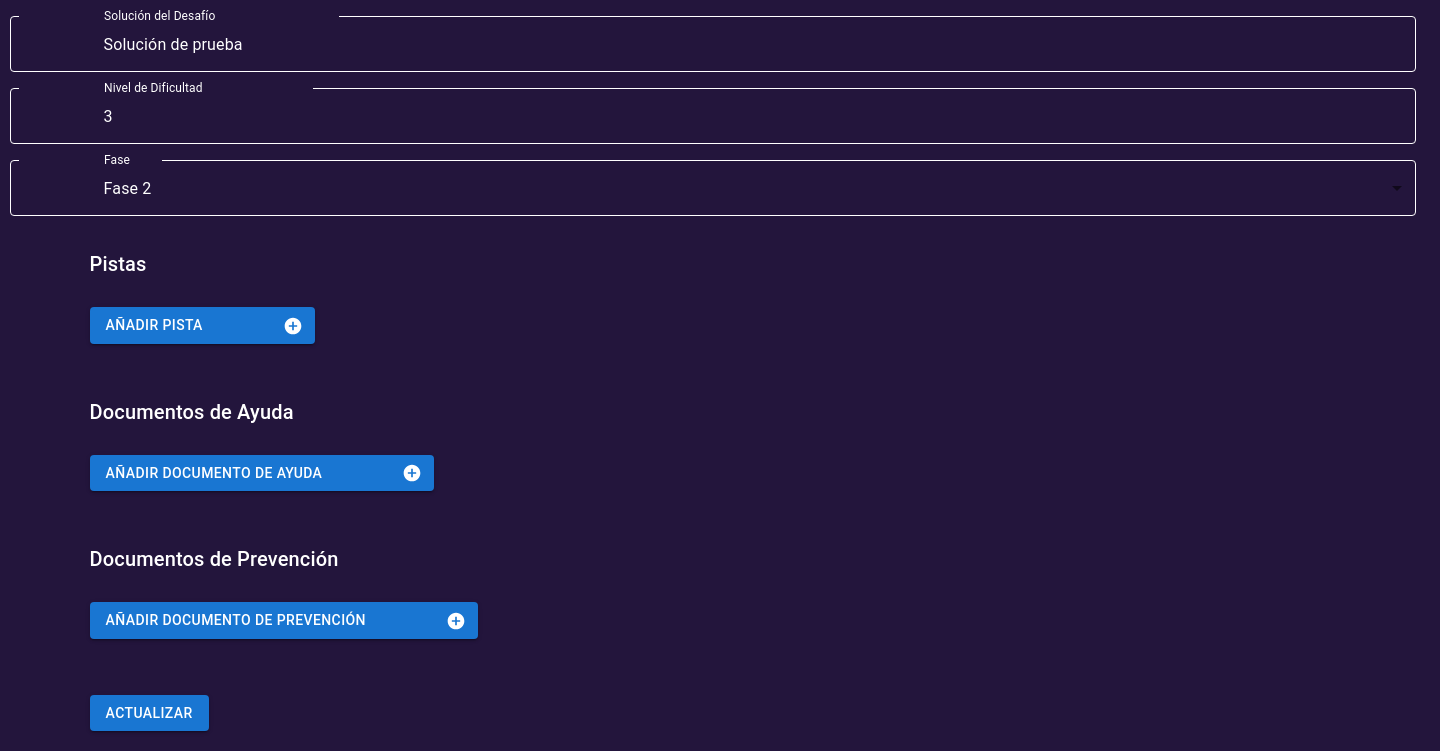
EditChallenge Page › adds and removes documentos de prevención
(page scrolled)
Click the button "Añadir Documento de Prevención" at (284, 621), box [90,602,478,639]
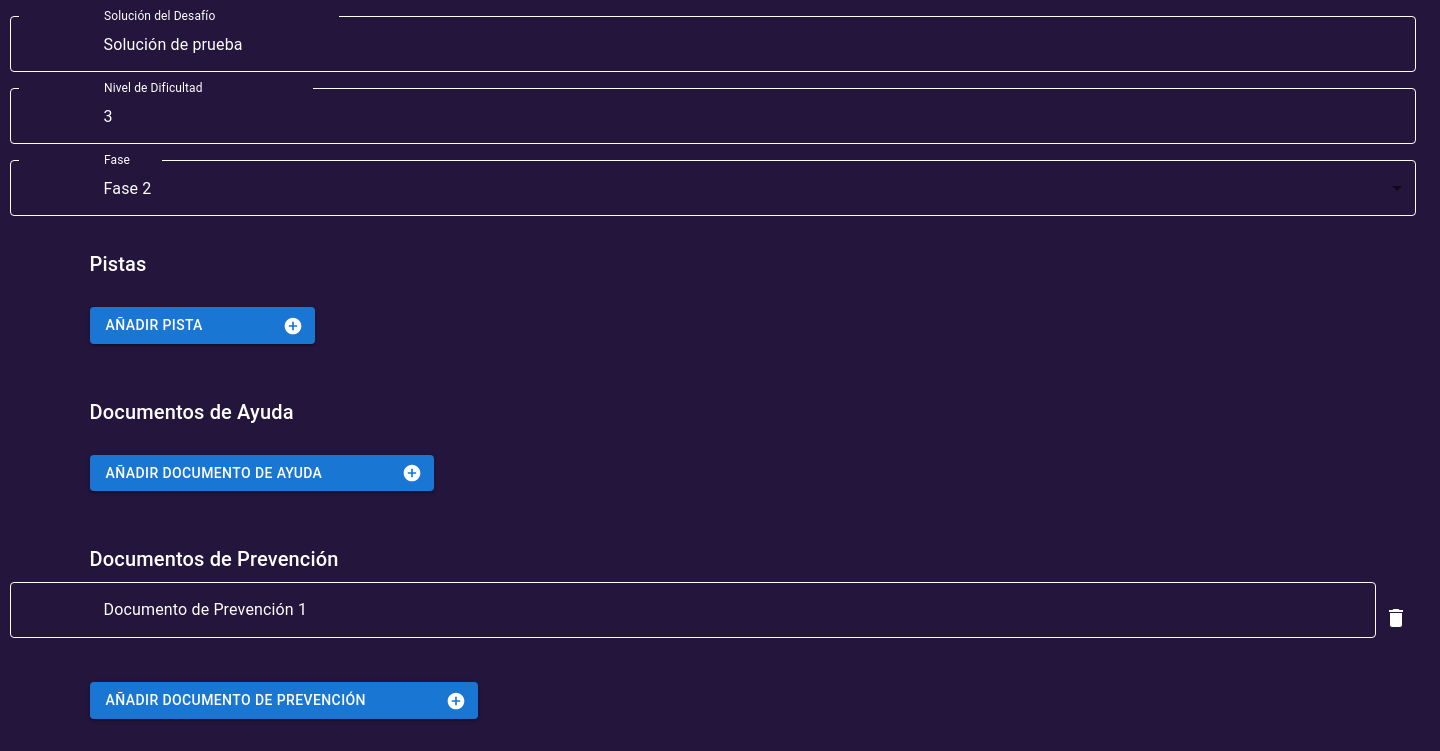
Expected: the number of fields labelled "Documento de Prevención 1" is 1
Type "Nuevo documento de prevención" into the field labelled "Documento de Prevención 1" at (733, 610), box [90,582,1376,638]
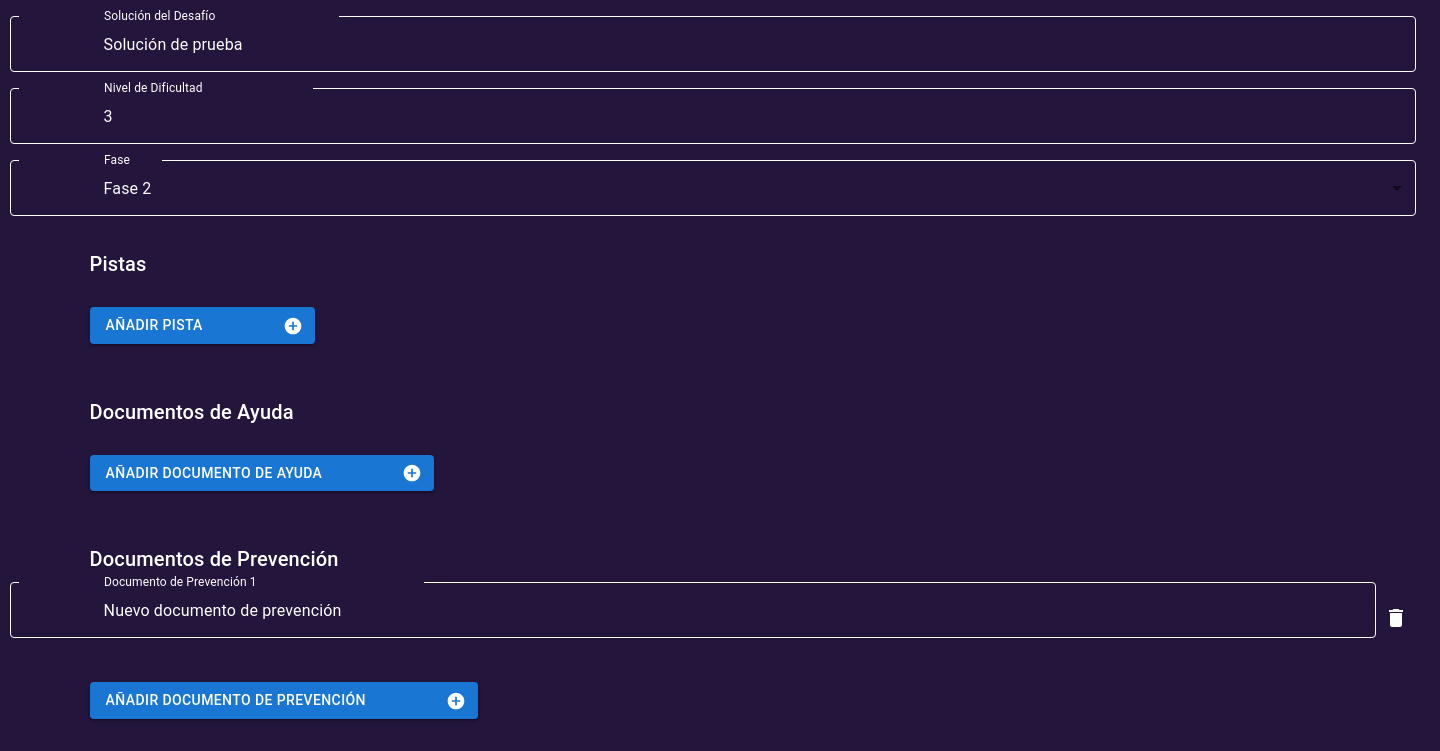
Click the button with test id "DeleteIcon" at (1396, 618), box [1376,598,1416,638]
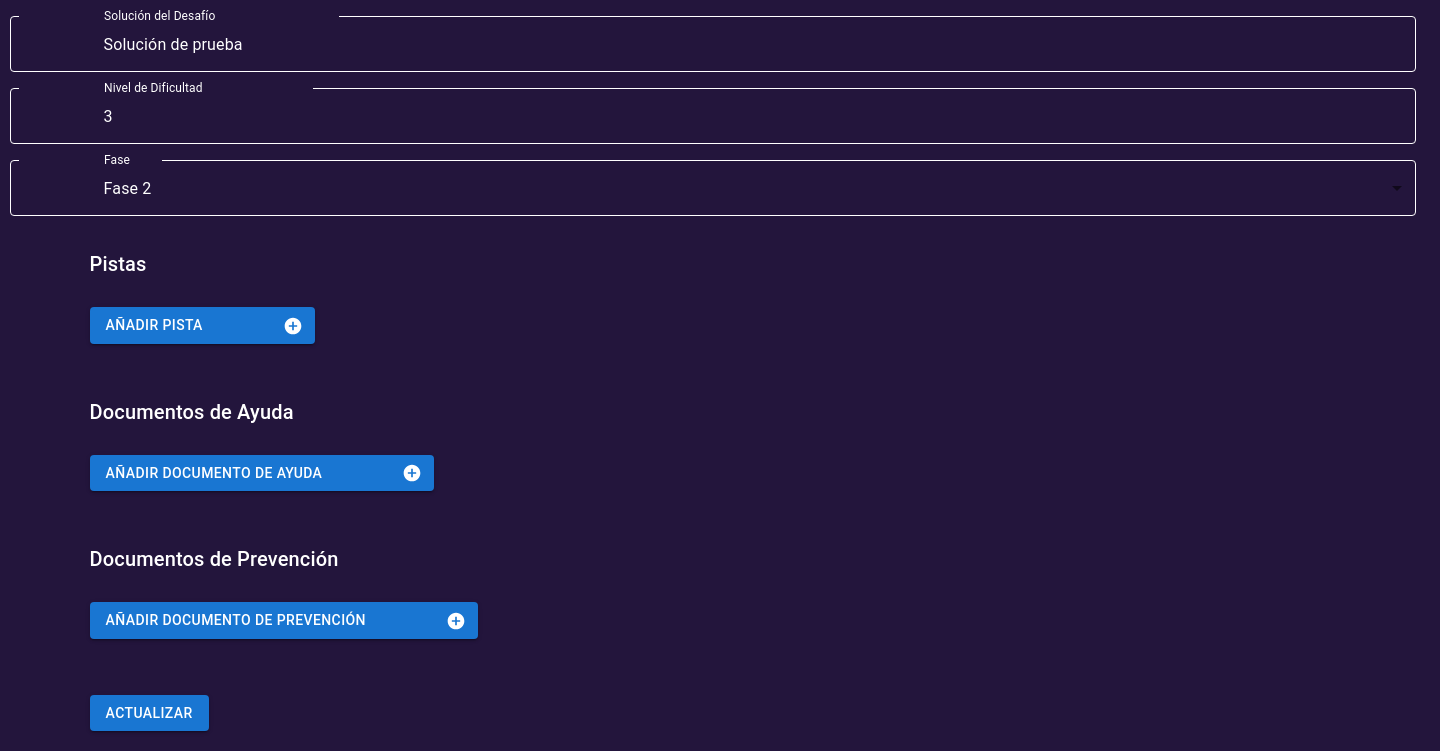
Expected: the label labelled "Documento de Prevención 1" is gone
